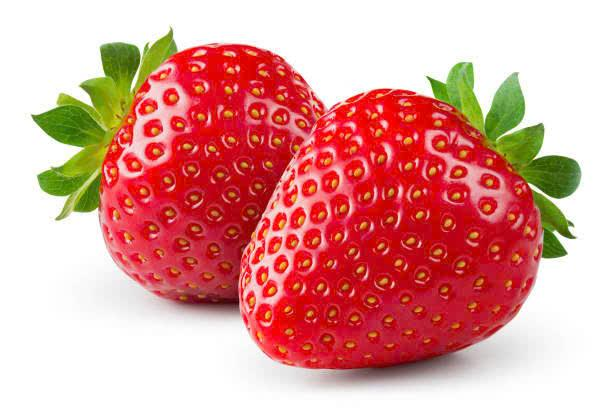strawberry: (240, 82, 550, 366), (82, 39, 288, 320)
